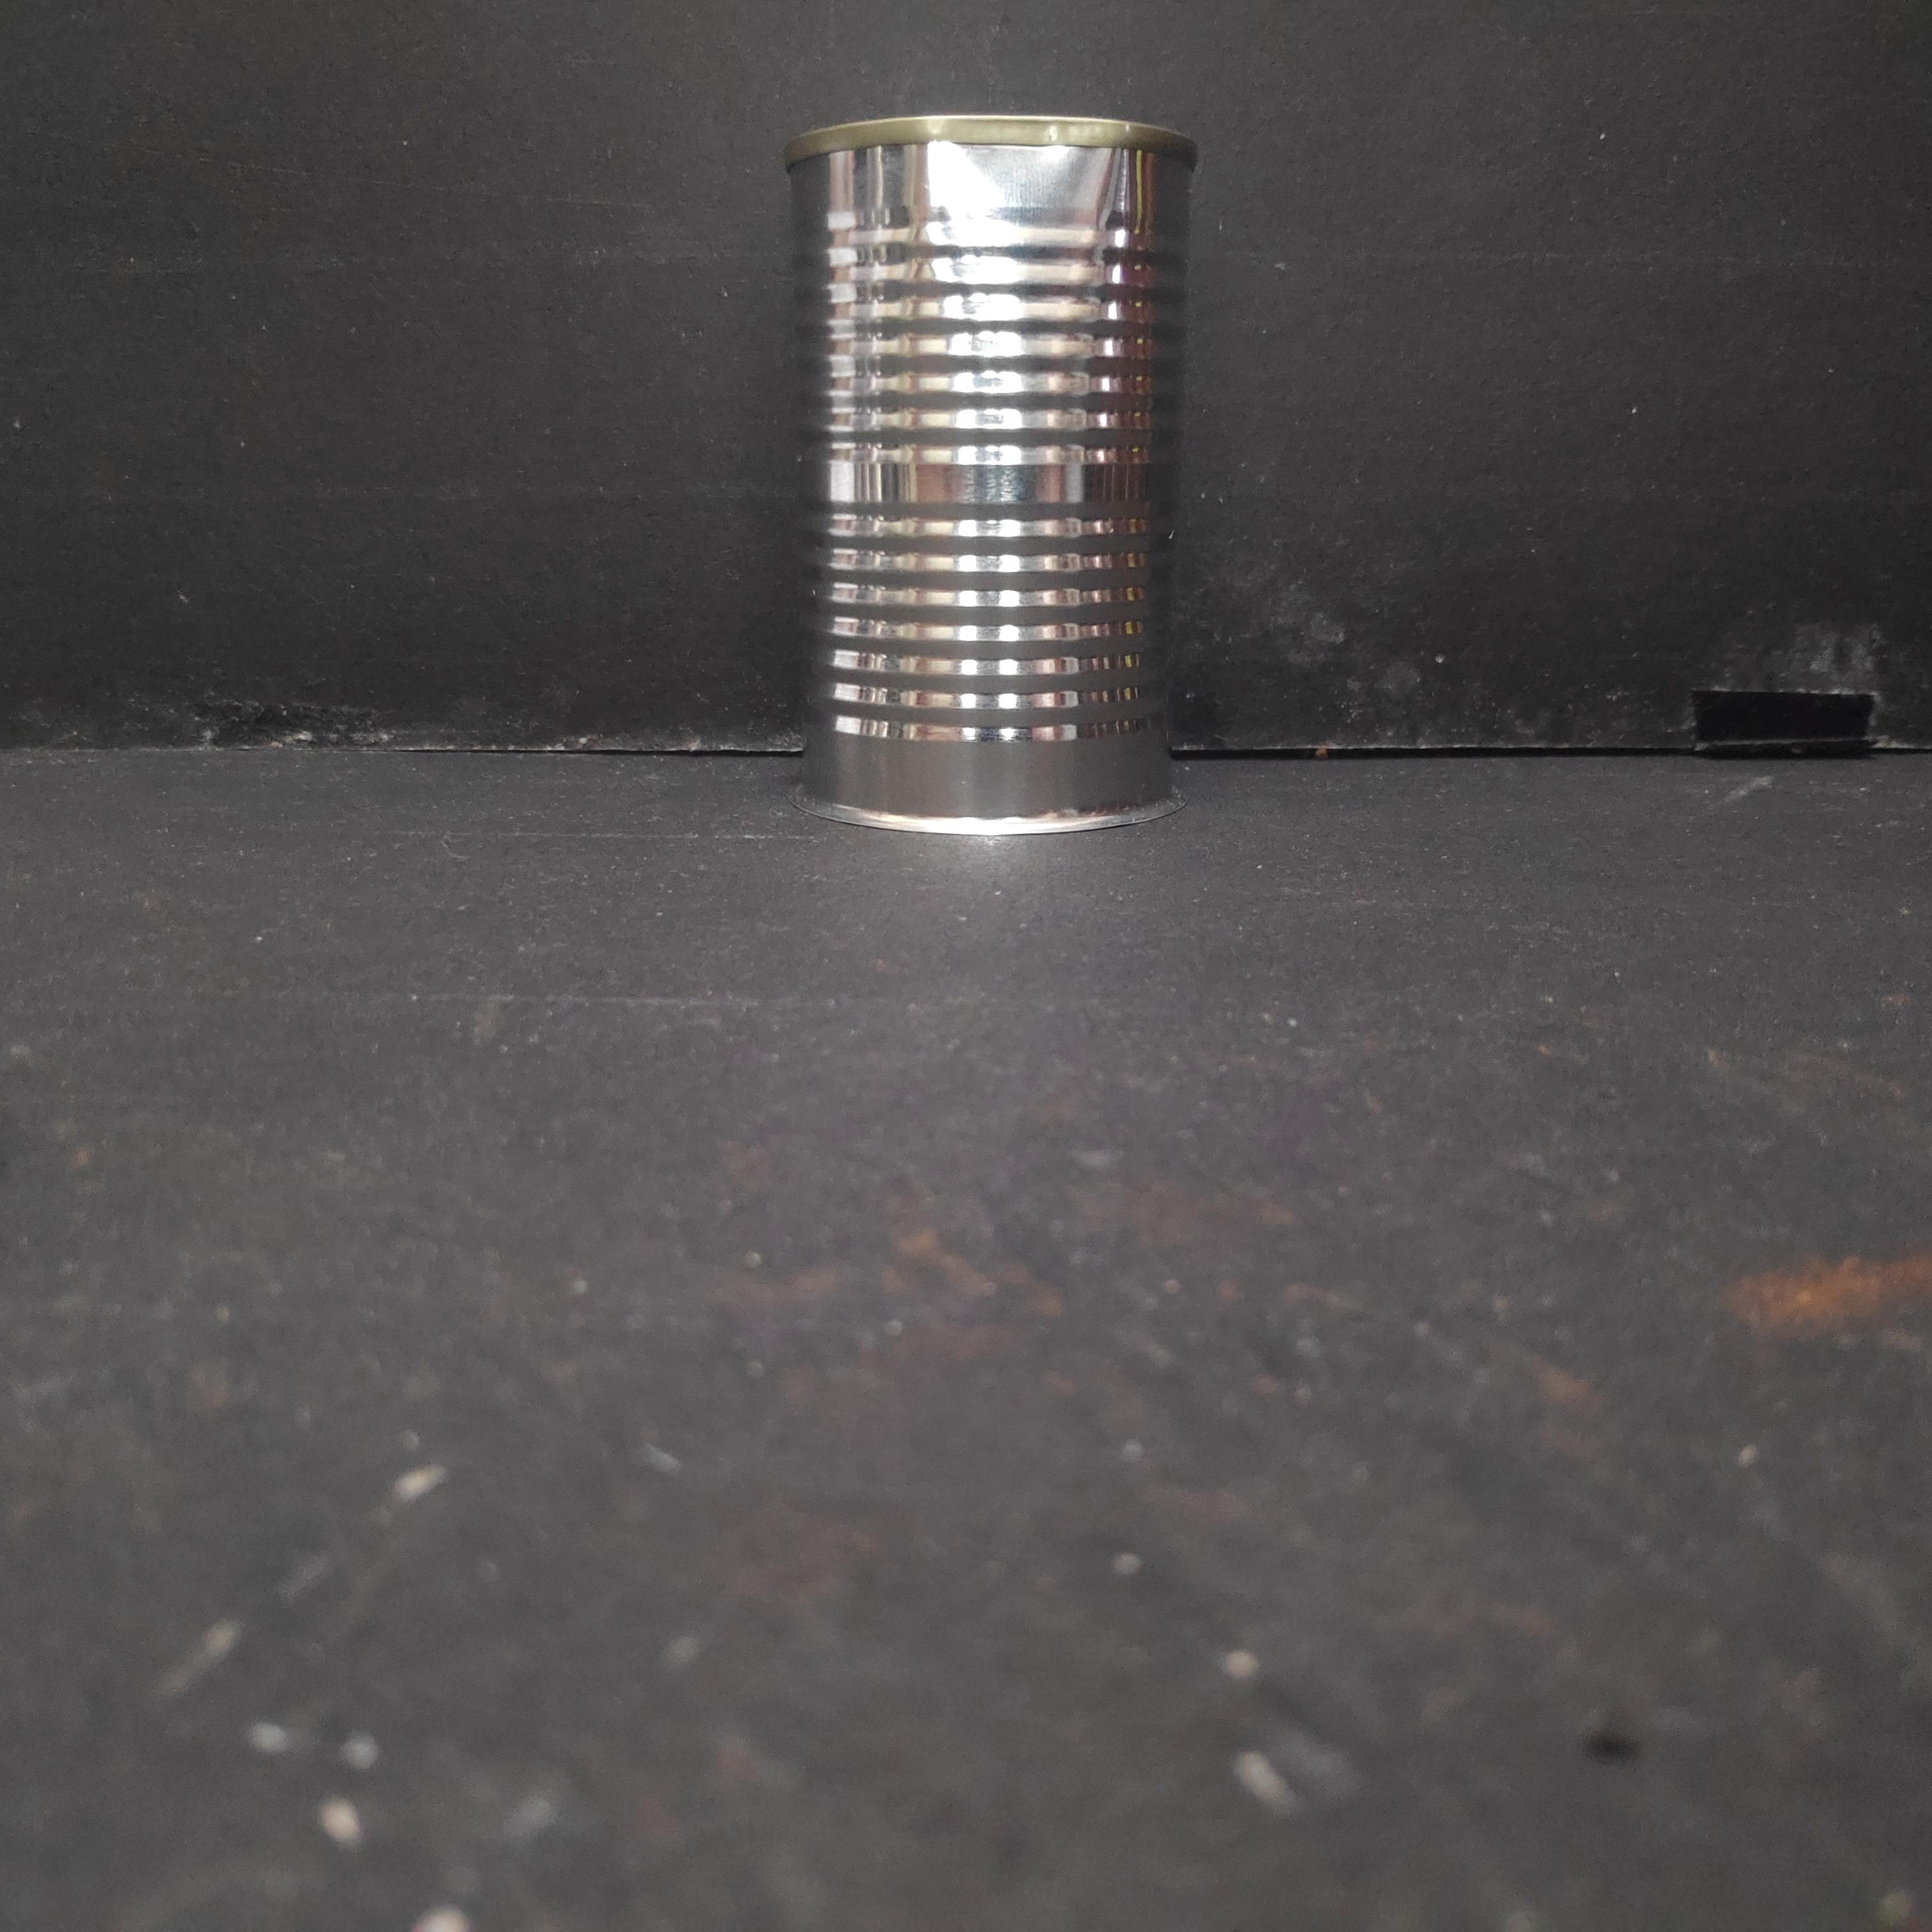Minor Defect: (771, 103, 1205, 849)
